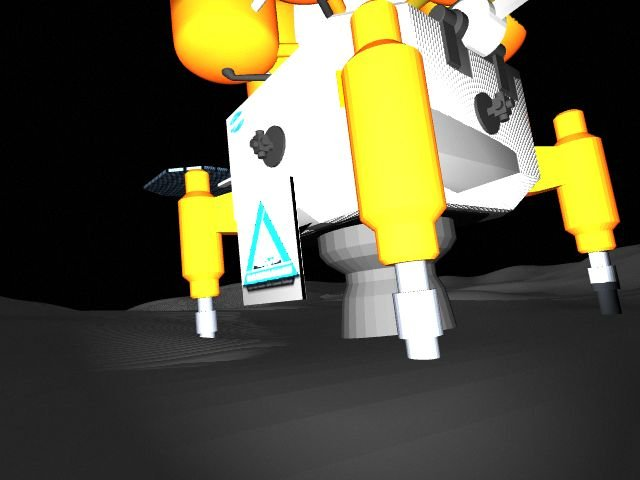basemarker: (242, 200, 300, 293)
